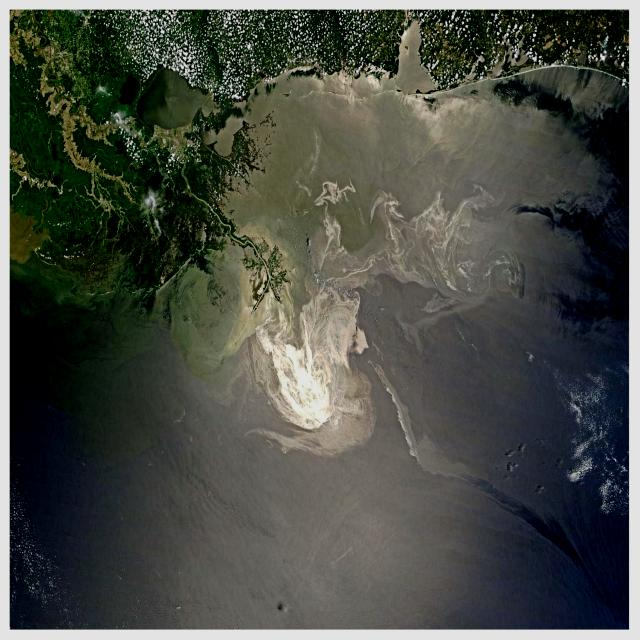oil spill: (337, 187, 524, 306), (254, 289, 368, 431), (553, 365, 628, 514), (374, 365, 418, 461)
